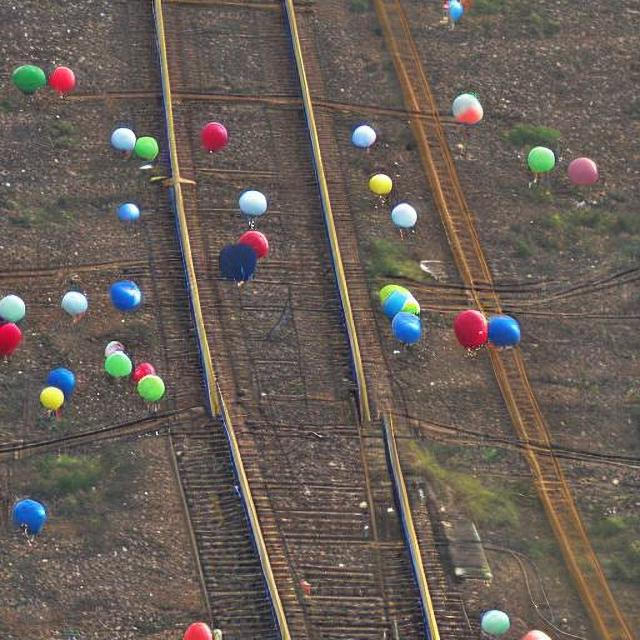balloon: (446, 305, 522, 358), (102, 344, 166, 400), (373, 285, 422, 353), (468, 599, 548, 639), (214, 229, 266, 286), (8, 59, 76, 99), (0, 286, 42, 348), (37, 366, 76, 418), (102, 341, 144, 387), (108, 125, 157, 160), (237, 188, 277, 229), (127, 360, 166, 402), (380, 202, 430, 234), (10, 496, 48, 538), (193, 119, 232, 158), (58, 286, 96, 323), (105, 278, 143, 314), (448, 90, 483, 126), (563, 155, 600, 188), (525, 144, 555, 174), (348, 121, 378, 151), (178, 608, 207, 639), (367, 171, 393, 196), (122, 202, 149, 225)
